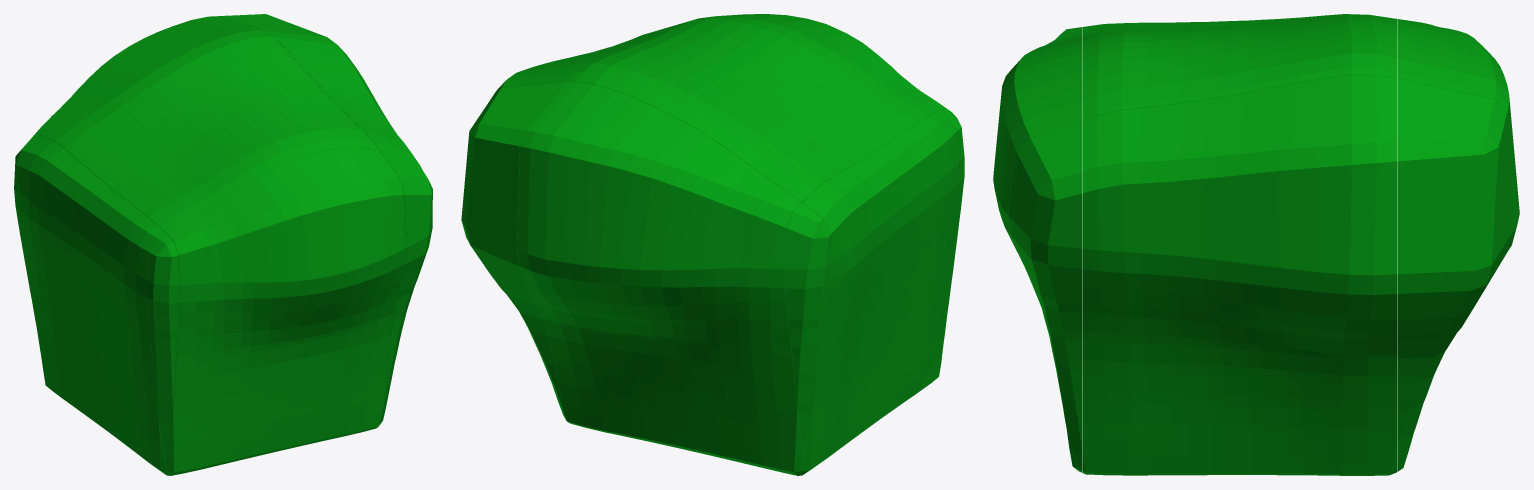
The model's file is 4by10beveledsubdivided.030.fbx.
The picture shows the model from 3 angles, left to right: view 1: azimuth 30°, elevation 25°; view 2: azimuth 150°, elevation 25°; view 3: azimuth 270°, elevation 25°; orthographic projection. The views are drawn at different scales.
Parts seen in each view (by area): view 1: 4by10beveledsubdivided.030; view 2: 4by10beveledsubdivided.030; view 3: 4by10beveledsubdivided.030.
Part boxes in pixels (left/top/right/bottom): 4by10beveledsubdivided.030: left=14, top=14, right=432, bottom=475; 4by10beveledsubdivided.030: left=461, top=14, right=964, bottom=475; 4by10beveledsubdivided.030: left=993, top=14, right=1519, bottom=475.
Bounding box in the file's own units: 301 × 285 × 335.
